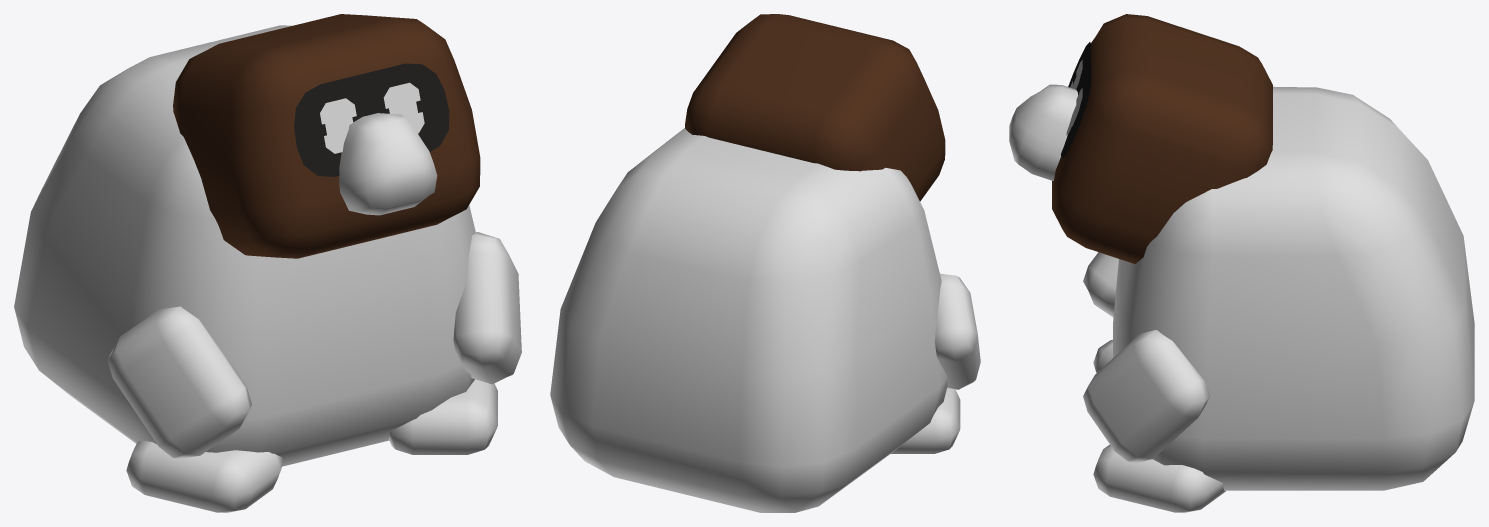
File: MONKEY_Mesh.fbx
3 views of the same model, side by side, from view 1: azimuth 30°, elevation 25°; view 2: azimuth 150°, elevation 25°; view 3: azimuth 270°, elevation 25° (orthographic). The views are drawn at different scales.
Parts seen in each view (by area): view 1: MONKEY_Body_Mesh, MONKEY_Head_Mesh, Monkey_HandR_Mesh, MONKEY_Mouth_Mesh, Monkey_HandL_Mesh, Monkey_FootR_Mesh, Monkey_FootL_Mesh, MONKEY_EyeRLidUp_Mesh, MONKEY_EyeLLidUp_Mesh; view 2: MONKEY_Body_Mesh, MONKEY_Head_Mesh, Monkey_HandR_Mesh, Monkey_FootR_Mesh; view 3: MONKEY_Body_Mesh, MONKEY_Head_Mesh, Monkey_HandL_Mesh, Monkey_FootL_Mesh, MONKEY_Mouth_Mesh, Monkey_HandR_Mesh.
Boxes of the visible parts, <box> form: MONKEY_Body_Mesh: <box>14,25,475,466</box>; MONKEY_Head_Mesh: <box>173,14,480,258</box>; Monkey_HandR_Mesh: <box>107,306,251,458</box>; MONKEY_Mouth_Mesh: <box>339,113,437,215</box>; Monkey_HandL_Mesh: <box>453,232,521,384</box>; Monkey_FootR_Mesh: <box>126,441,283,512</box>; Monkey_FootL_Mesh: <box>388,379,497,454</box>; MONKEY_EyeRLidUp_Mesh: <box>320,98,356,124</box>; MONKEY_EyeLLidUp_Mesh: <box>383,82,420,108</box>; MONKEY_Body_Mesh: <box>550,128,947,512</box>; MONKEY_Head_Mesh: <box>685,14,945,201</box>; Monkey_HandR_Mesh: <box>934,273,980,389</box>; Monkey_FootR_Mesh: <box>891,388,960,453</box>; MONKEY_Body_Mesh: <box>1113,86,1474,490</box>; MONKEY_Head_Mesh: <box>1052,14,1272,264</box>; Monkey_HandL_Mesh: <box>1083,330,1209,462</box>; Monkey_FootL_Mesh: <box>1093,444,1225,512</box>; MONKEY_Mouth_Mesh: <box>1009,84,1077,180</box>; Monkey_HandR_Mesh: <box>1083,252,1118,317</box>.
Bounding box in the file's own units: 0.6805 × 0.7167 × 0.7586.
